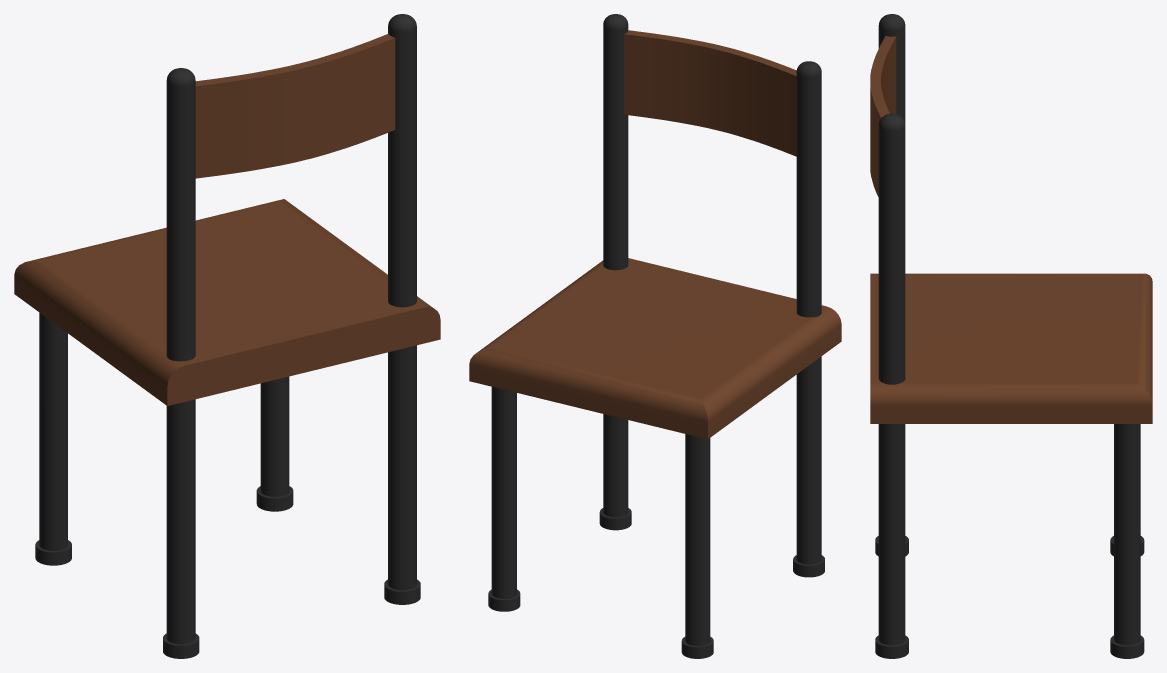
Rendered from Chaise2_9.fbx.
3 renders of one model, left to right at view 1: azimuth 30°, elevation 25°; view 2: azimuth 150°, elevation 25°; view 3: azimuth 270°, elevation 25°, orthographic. The views are drawn at different scales.
Visible parts, largest first — view 1: pCube2671, pCube2670, pCylinder1662, pCylinder1663, pCylinder1664, pCylinder1665; view 2: pCube2671, pCube2670, pCylinder1662, pCylinder1663, pCylinder1665, pCylinder1664; view 3: pCube2671, pCylinder1663, pCylinder1665, pCube2670, pCylinder1662.
Part boxes in pixels (box(x1,y1,x2,y2)): pCube2671: box(14, 199, 440, 405); pCube2670: box(195, 34, 395, 178); pCylinder1662: box(163, 68, 199, 658); pCylinder1663: box(384, 14, 420, 604); pCylinder1664: box(35, 312, 71, 565); pCylinder1665: box(256, 376, 293, 511); pCube2671: box(469, 258, 841, 439); pCube2670: box(624, 30, 796, 156); pCylinder1662: box(793, 61, 824, 577); pCylinder1663: box(599, 14, 631, 530); pCylinder1665: box(488, 387, 520, 611); pCylinder1664: box(681, 434, 713, 658); pCube2671: box(870, 273, 1152, 423); pCylinder1663: box(875, 113, 908, 658); pCylinder1665: box(1110, 424, 1144, 658); pCube2670: box(870, 36, 896, 196); pCylinder1662: box(875, 14, 908, 556).
Bounding box in the file's own units: 40.39 × 82.1 × 39.23.
